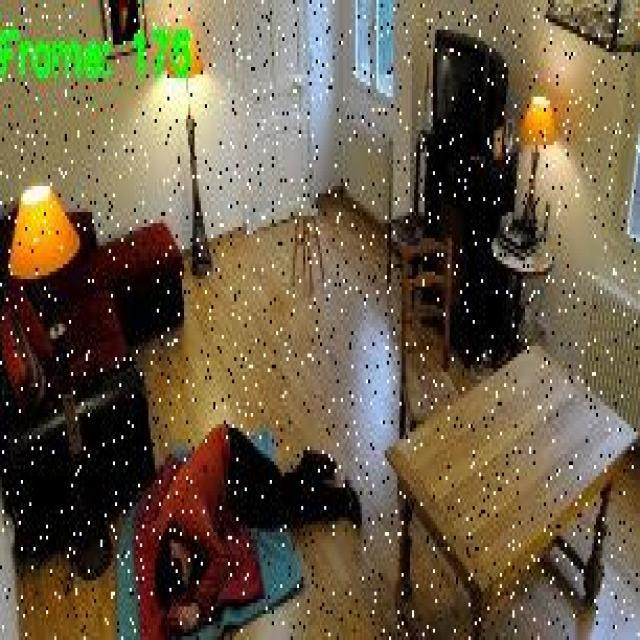fall: (151, 416, 368, 636)
